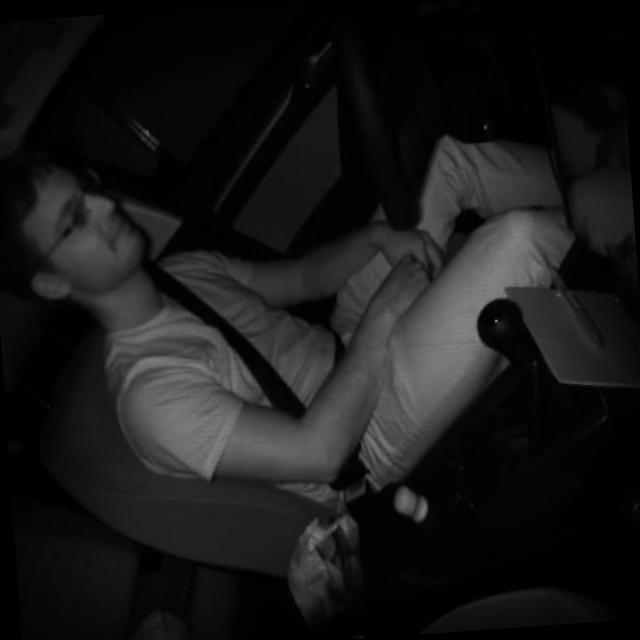pen: (546, 252, 608, 359)
